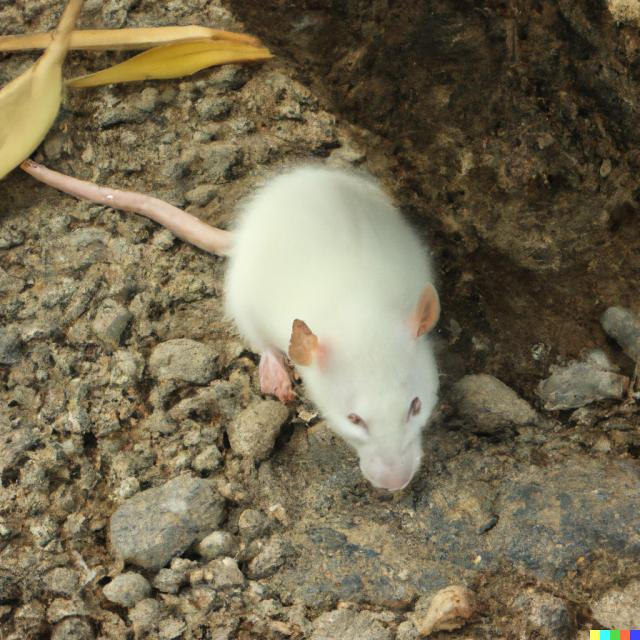rodents: (217, 157, 478, 513)
